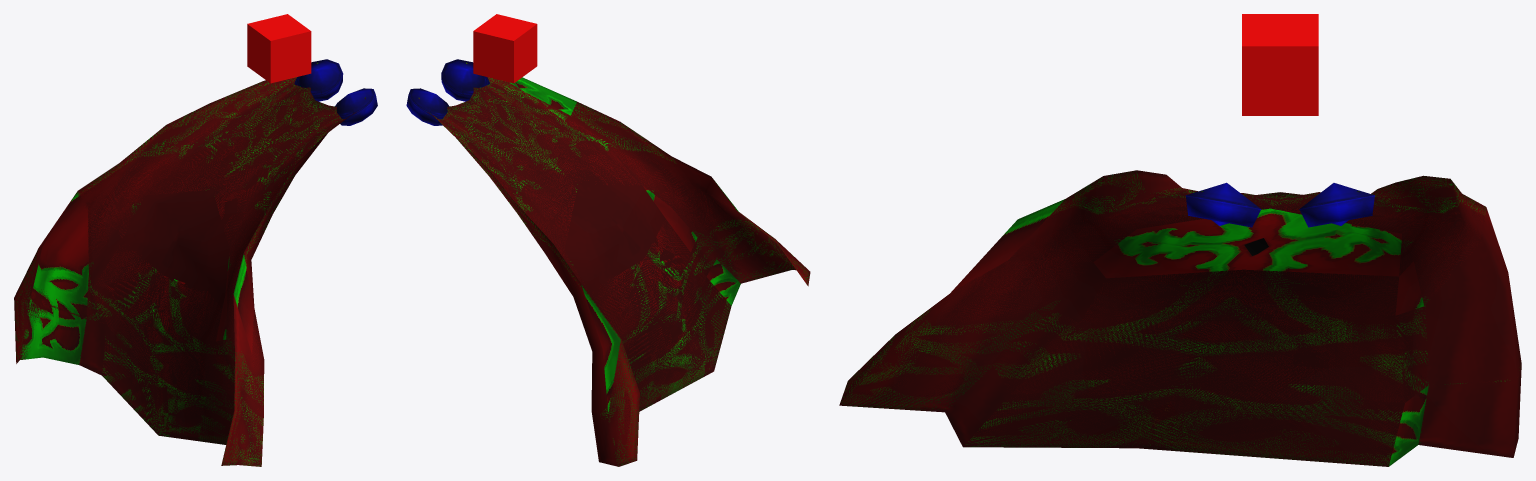
3 renders of one model, left to right at view 1: azimuth 30°, elevation 25°; view 2: azimuth 150°, elevation 25°; view 3: azimuth 270°, elevation 25°, orthographic. The views are drawn at different scales.
Visible parts, largest first — view 1: X674A, Box; view 2: X674A, Box; view 3: X674A, Box.
Part boxes in pixels (box(x1,y1,x2,y2)): X674A: box(14, 59, 377, 466); Box: box(247, 14, 311, 83); X674A: box(406, 59, 810, 466); Box: box(473, 14, 537, 83); X674A: box(839, 170, 1521, 466); Box: box(1242, 14, 1318, 115).
Size of the model in its own units: 0.5644 by 0.6627 by 0.7324.
